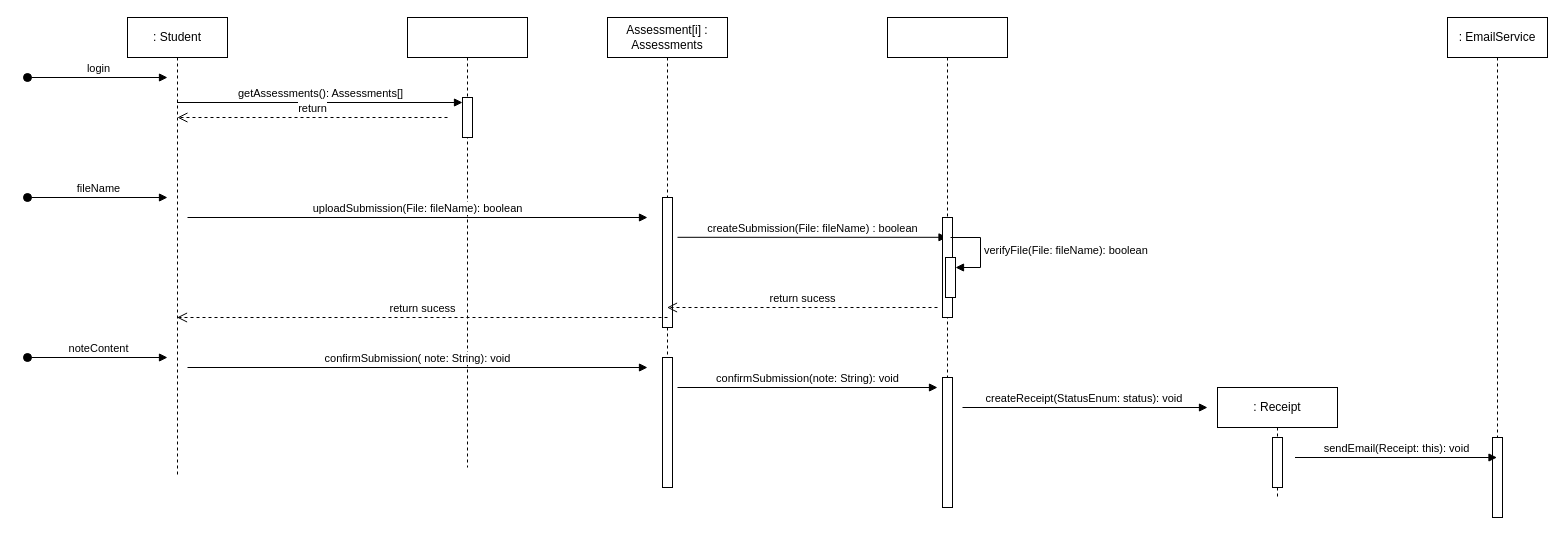
This 1565x535 diagram has some shape labels left out. The shapes that lost their labels are listed below. From the top down, each one's box as (x1, y1, x2, y2) in pixels, then its label:
(406, 16, 528, 468): : Subject
(886, 16, 1008, 508): : Submission
